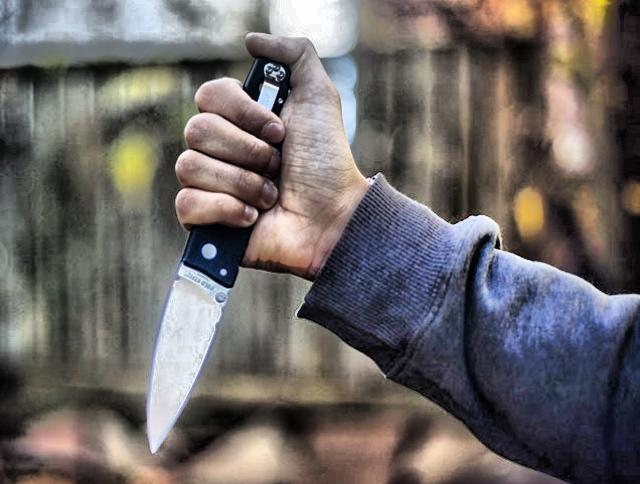knife: (136, 31, 322, 460)
